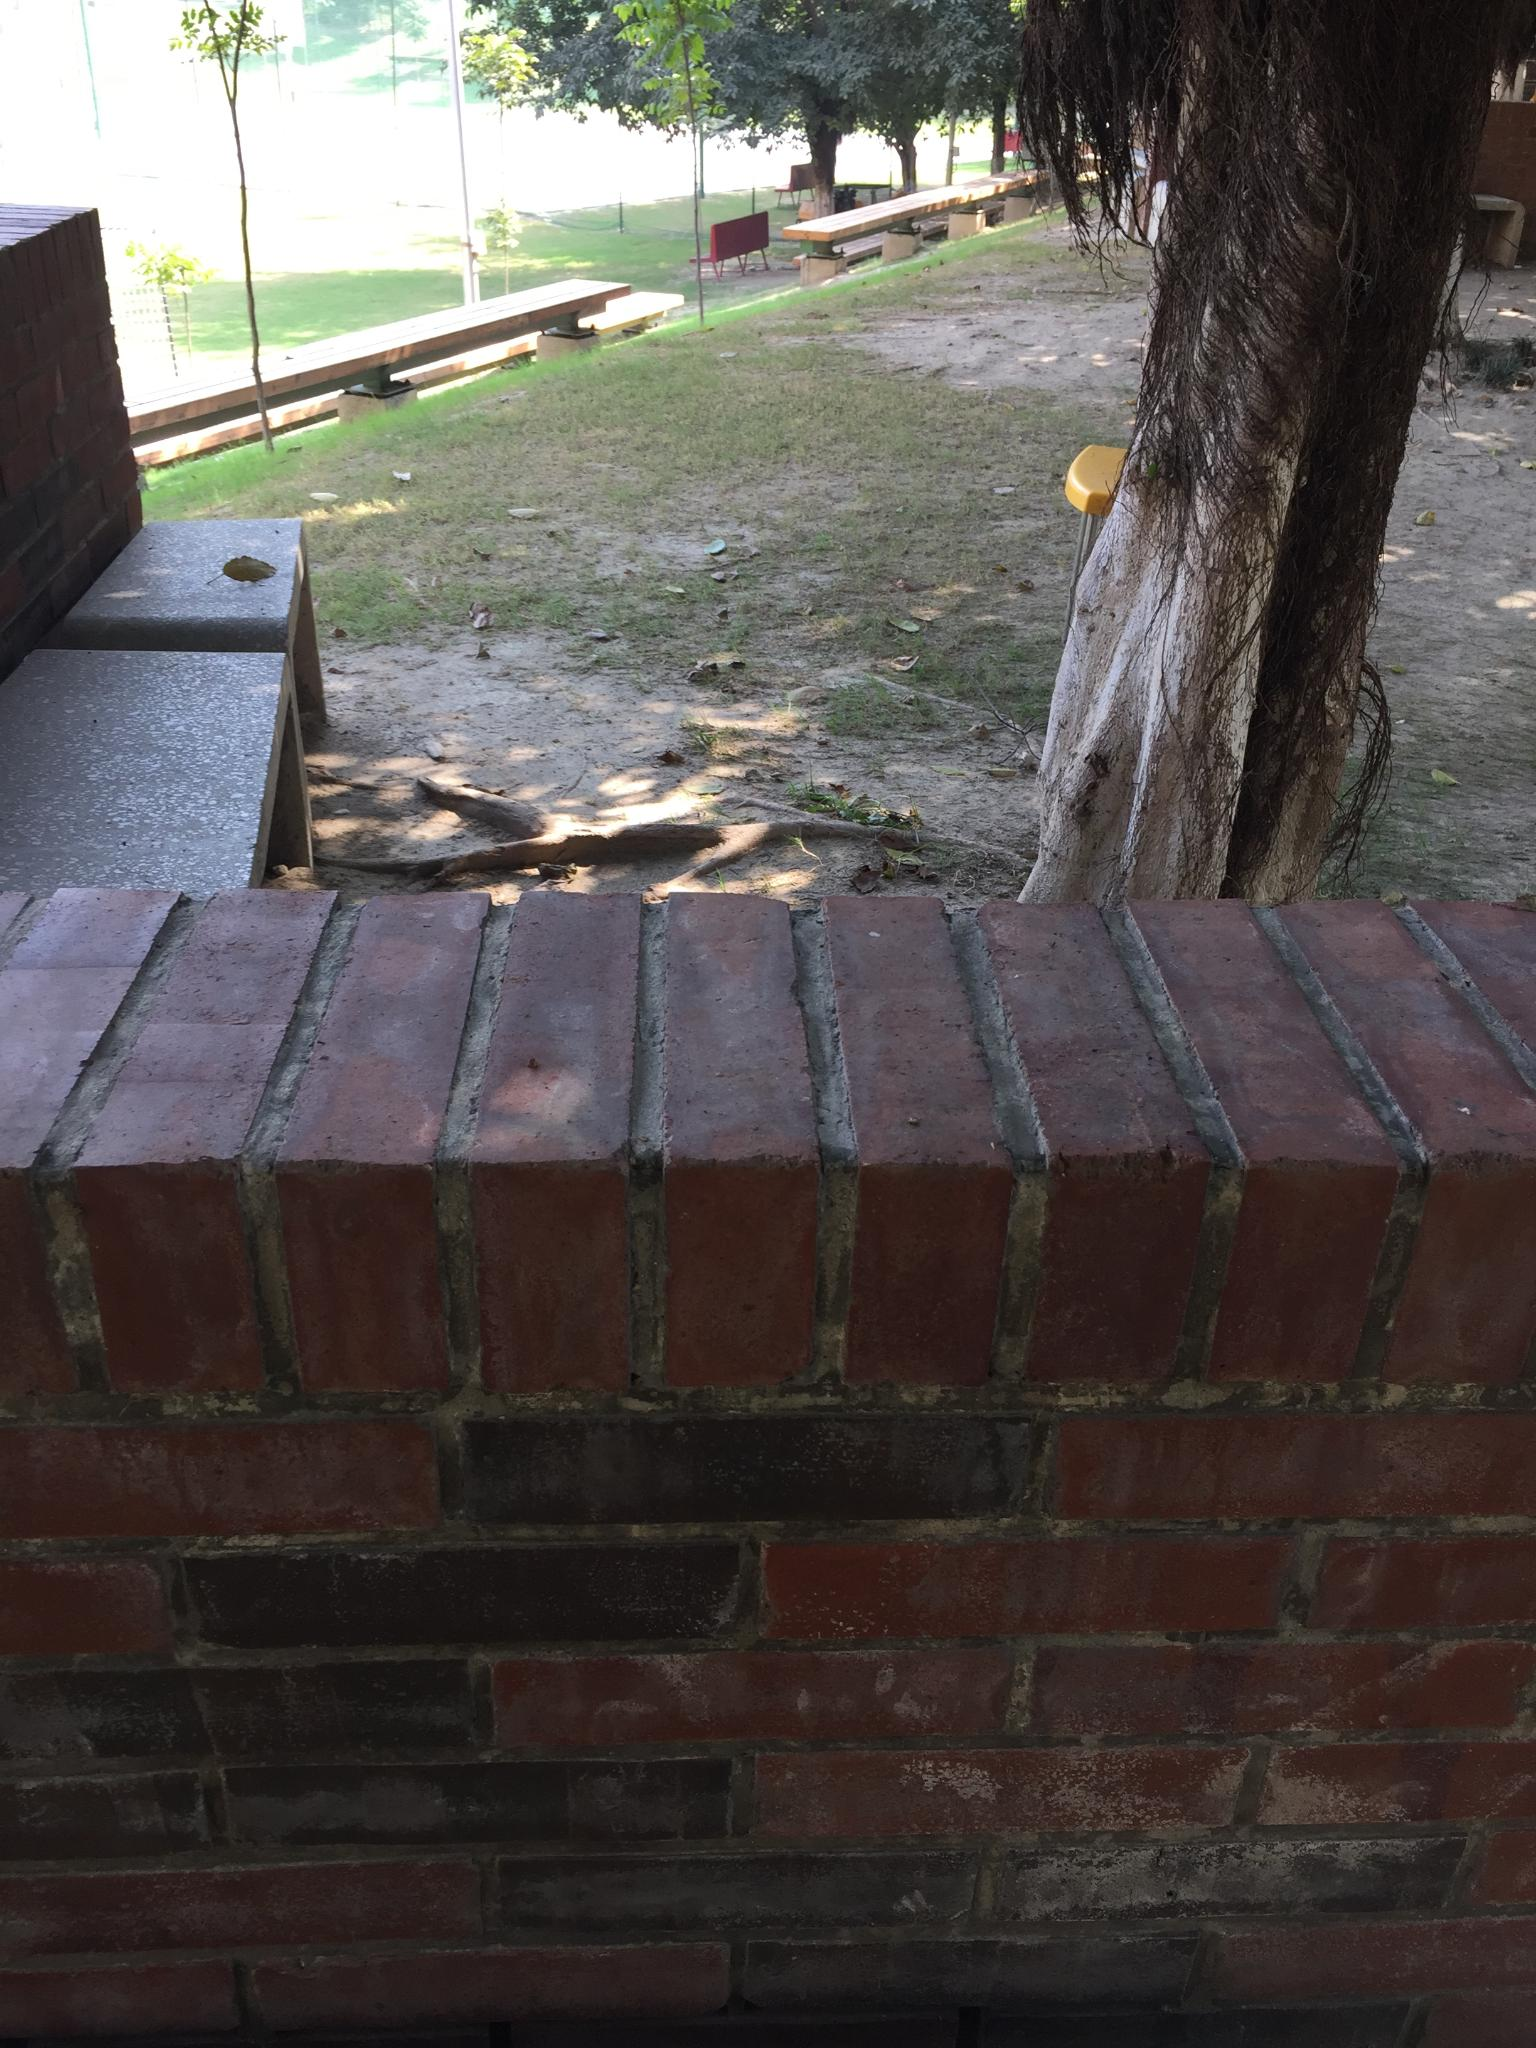chair: (1055, 281, 1462, 648)
